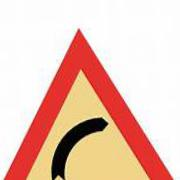right: (7, 30, 173, 180)
